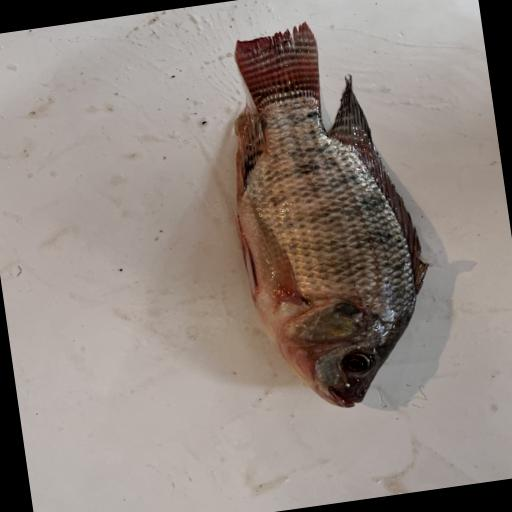Tilapia: (210, 9, 447, 420)
